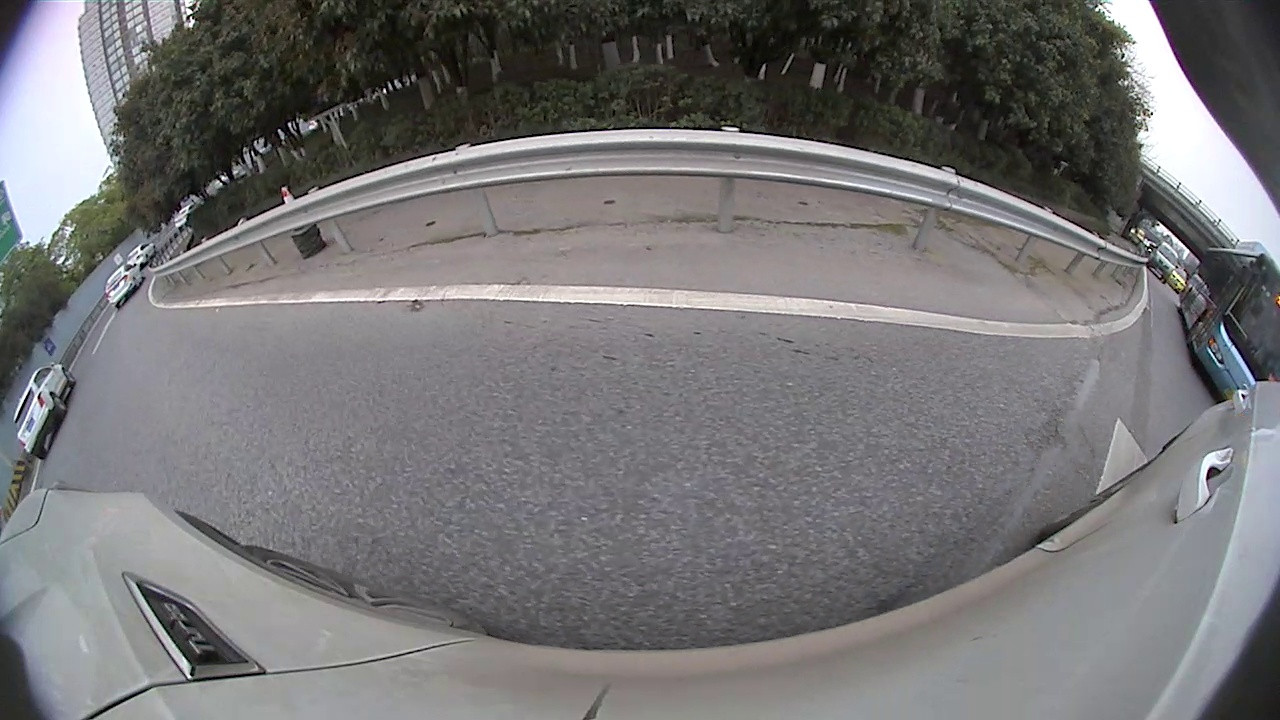bus: (1178, 238, 1279, 408)
car: (9, 359, 78, 463), (101, 257, 146, 312), (1148, 238, 1183, 284)
front: (1182, 314, 1205, 346), (61, 369, 78, 386)
rear: (50, 395, 71, 415)
